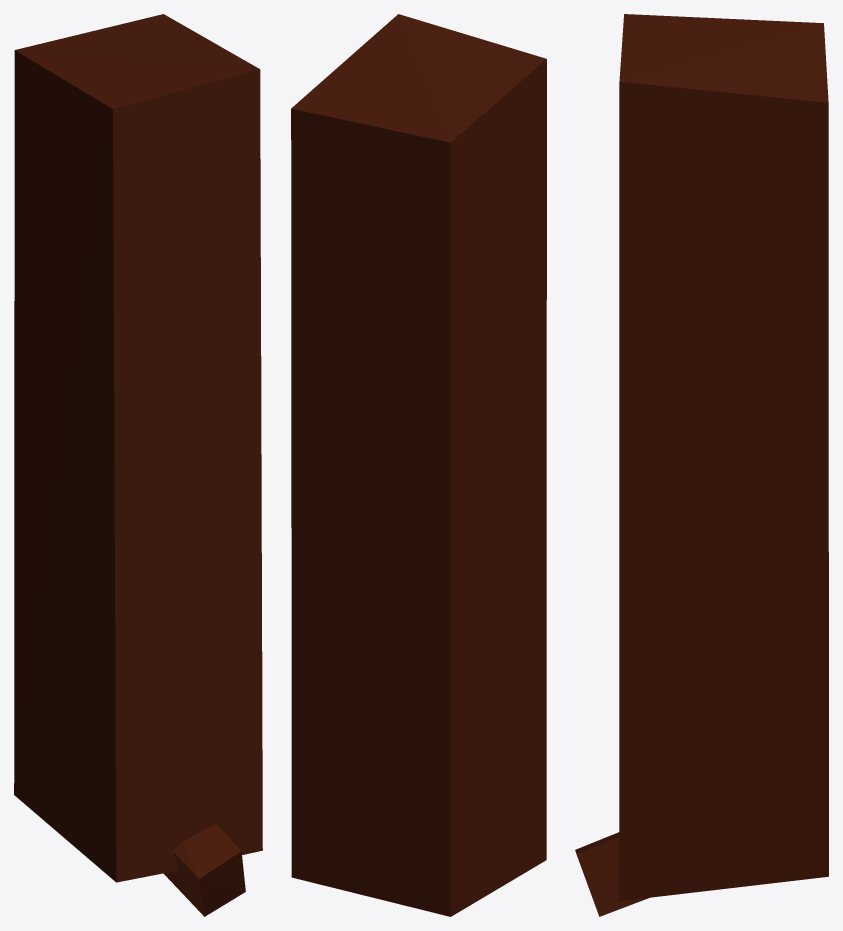
The picture shows the model from 3 angles, left to right: view 1: azimuth 30°, elevation 25°; view 2: azimuth 150°, elevation 25°; view 3: azimuth 270°, elevation 25°; orthographic projection. The views are drawn at different scales.
Parts seen in each view (by area): view 1: 029_Cube.124; view 2: 029_Cube.124; view 3: 029_Cube.124.
Part boxes in pixels (bbox=[...]): 029_Cube.124: bbox=[14, 14, 262, 916]; 029_Cube.124: bbox=[291, 14, 546, 916]; 029_Cube.124: bbox=[575, 14, 828, 916].
Size of the model in its own units: 2.5 by 13 by 3.47.
